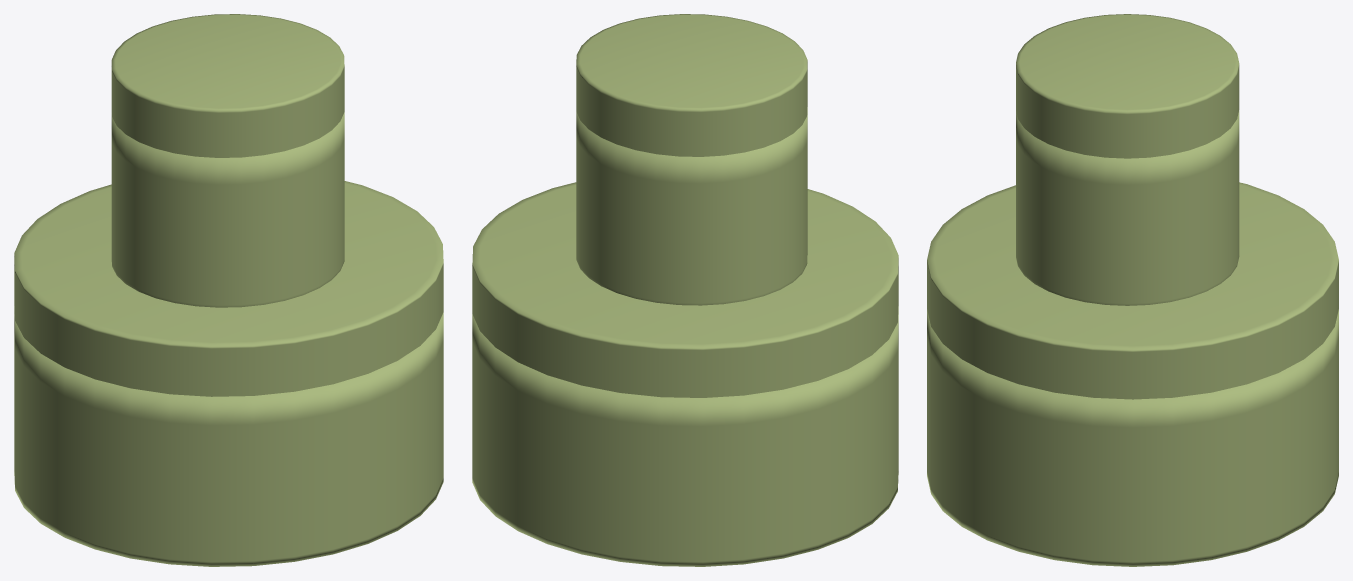
File: 2-tier-pistage-none-none.glb
The picture shows the model from 3 angles, left to right: view 1: azimuth 30°, elevation 25°; view 2: azimuth 150°, elevation 25°; view 3: azimuth 270°, elevation 25°; orthographic projection.
Visible parts, largest first — view 1: Cylinder.023, Cylinder.013; view 2: Cylinder.023, Cylinder.013; view 3: Cylinder.023, Cylinder.013.
Part boxes in pixels (x1,y1,x2,y2): Cylinder.023: (14,181,443,566); Cylinder.013: (111,14,344,307); Cylinder.023: (472,182,898,566); Cylinder.013: (576,14,807,305); Cylinder.023: (927,182,1338,566); Cylinder.013: (1016,14,1239,305).
Size of the model in its own units: 3.4 by 3.61 by 3.27.
